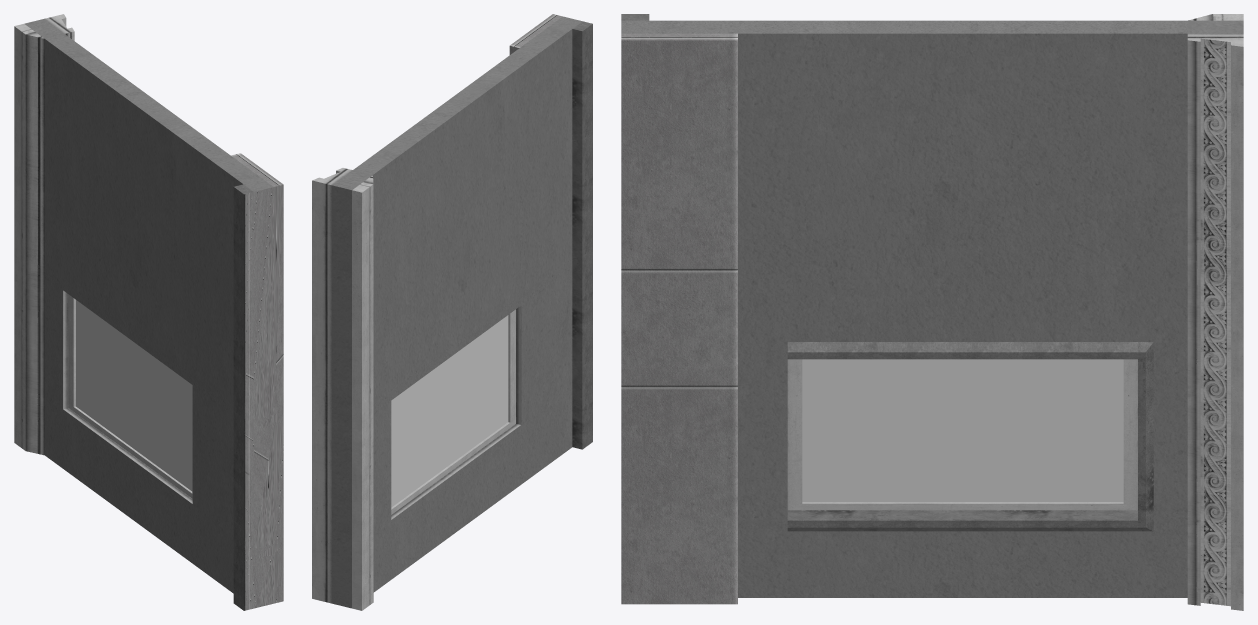
Rendered from A_wall_ 4m_small_window.fbx.
3 renders of one model, left to right at view 1: azimuth 30°, elevation 25°; view 2: azimuth 150°, elevation 25°; view 3: azimuth 270°, elevation 25°, orthographic. The views are drawn at different scales.
Visible parts, largest first — view 1: A_wall__4m_small_window, A_glass_017; view 2: A_wall__4m_small_window, A_glass_017; view 3: A_wall__4m_small_window, A_glass_017.
Part boxes in pixels (box(x1,y1,x2,y2)): A_wall__4m_small_window: box(14, 14, 283, 610); A_glass_017: box(76, 300, 192, 491); A_wall__4m_small_window: box(312, 14, 592, 610); A_glass_017: box(391, 315, 508, 507); A_wall__4m_small_window: box(621, 14, 1243, 610); A_glass_017: box(802, 359, 1123, 502).
Bounding box in the file's own units: 0.5 × 4 × 4.
